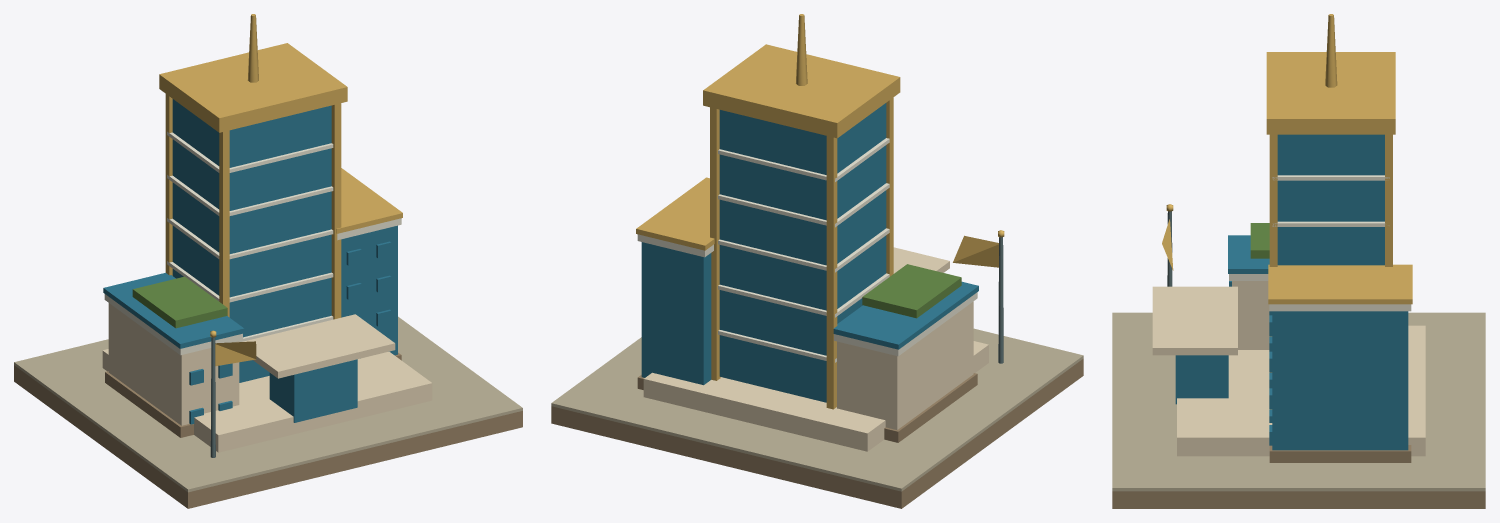
Rendered from club-headquarters-lv4.glb.
The picture shows the model from 3 angles, left to right: view 1: azimuth 30°, elevation 25°; view 2: azimuth 150°, elevation 25°; view 3: azimuth 270°, elevation 25°; orthographic projection. The views are drawn at different scales.
Visible parts, largest first — view 1: office_tower_glass, foundation_paving, tower_crown_gold, foundation_stoneDark, headquarters_plinth_cream, office_wing_cream, tower_mullions_gold, entrance_canopy_cream, secondary_tower_glass, floor_bands_white, entrance_lobby_glass, office_wing_roof_glass (+9 smaller); view 2: office_tower_glass, foundation_paving, tower_crown_gold, office_wing_cream, foundation_stoneDark, secondary_tower_glass, headquarters_plinth_cream, tower_mullions_gold, floor_bands_white, office_wing_roof_glass, roof_garden_grass, secondary_tower_roof_gold (+6 smaller); view 3: foundation_paving, secondary_tower_glass, office_tower_glass, tower_crown_gold, headquarters_plinth_cream, foundation_stoneDark, entrance_canopy_cream, secondary_tower_roof_gold, entrance_lobby_glass, tower_mullions_gold, office_wing_cream, secondary_tower_stoneDark (+6 smaller).
Part boxes in pixels (x1=…): office_tower_glass: x1=172, y1=99, x2=331, y2=382; foundation_paving: x1=14, y1=316, x2=522, y2=492; tower_crown_gold: x1=159, y1=43, x2=347, y2=132; foundation_stoneDark: x1=14, y1=365, x2=522, y2=508; headquarters_plinth_cream: x1=102, y1=349, x2=432, y2=452; office_wing_cream: x1=108, y1=303, x2=239, y2=425; tower_mullions_gold: x1=165, y1=94, x2=341, y2=319; entrance_canopy_cream: x1=242, y1=314, x2=395, y2=378; secondary_tower_glass: x1=341, y1=225, x2=397, y2=355; floor_bands_white: x1=167, y1=131, x2=333, y2=341; entrance_lobby_glass: x1=269, y1=359, x2=357, y2=422; office_wing_roof_glass: x1=103, y1=272, x2=244, y2=348; office_tower_glass: x1=719, y1=103, x2=886, y2=402; foundation_paving: x1=551, y1=328, x2=1083, y2=491; tower_crown_gold: x1=703, y1=44, x2=900, y2=138; office_wing_cream: x1=837, y1=301, x2=973, y2=429; foundation_stoneDark: x1=551, y1=358, x2=1083, y2=508; secondary_tower_glass: x1=641, y1=242, x2=711, y2=385; headquarters_plinth_cream: x1=643, y1=341, x2=988, y2=451; tower_mullions_gold: x1=710, y1=97, x2=893, y2=409; floor_bands_white: x1=718, y1=138, x2=889, y2=362; office_wing_roof_glass: x1=833, y1=281, x2=978, y2=349; roof_garden_grass: x1=862, y1=264, x2=961, y2=318; secondary_tower_roof_gold: x1=636, y1=177, x2=714, y2=250; foundation_paving: x1=1112, y1=312, x2=1485, y2=491; secondary_tower_glass: x1=1272, y1=311, x2=1408, y2=450; office_tower_glass: x1=1277, y1=134, x2=1384, y2=265; tower_crown_gold: x1=1266, y1=52, x2=1395, y2=134; headquarters_plinth_cream: x1=1177, y1=325, x2=1425, y2=456; foundation_stoneDark: x1=1112, y1=491, x2=1485, y2=508; entrance_canopy_cream: x1=1152, y1=286, x2=1237, y2=355; secondary_tower_roof_gold: x1=1268, y1=264, x2=1412, y2=304; entrance_lobby_glass: x1=1175, y1=355, x2=1228, y2=404; tower_mullions_gold: x1=1269, y1=134, x2=1392, y2=409; office_wing_cream: x1=1232, y1=281, x2=1269, y2=349; secondary_tower_stoneDark: x1=1269, y1=445, x2=1411, y2=462.
Bounding box in the file's own units: 1 × 1.08 × 0.9.
